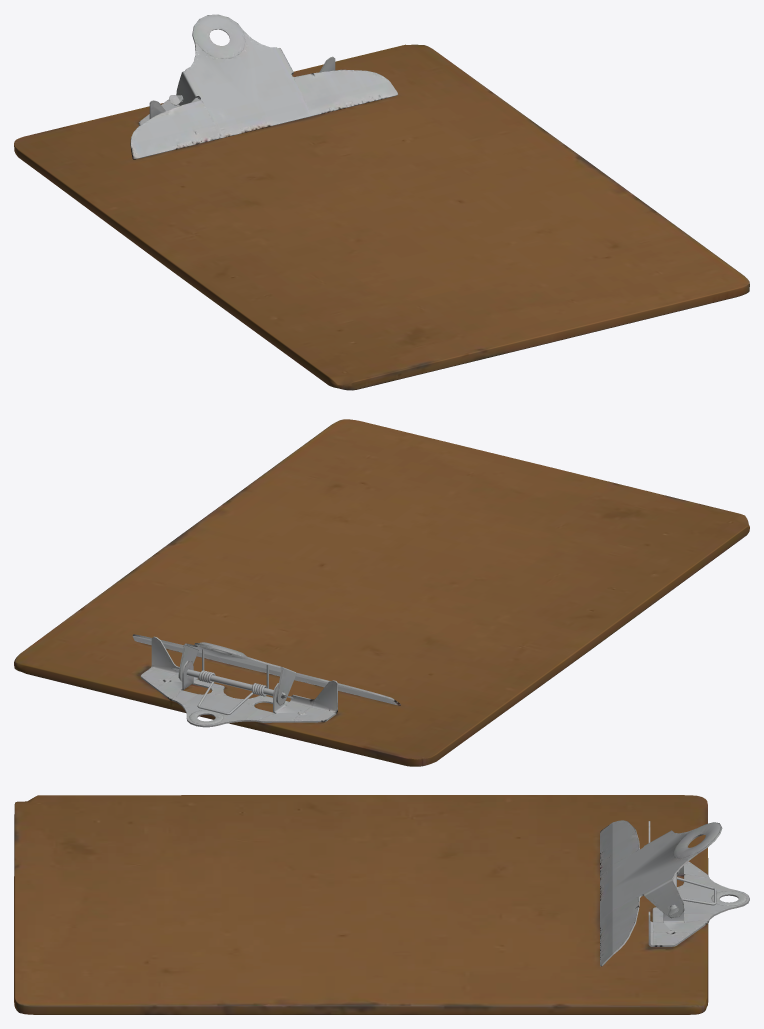
The model's file is clipboard.glb.
3 renders of one model, top to bottom at view 1: azimuth 30°, elevation 25°; view 2: azimuth 150°, elevation 25°; view 3: azimuth 270°, elevation 25°, orthographic. The views are drawn at different scales.
Visible parts, largest first — view 1: clipboard; view 2: clipboard; view 3: clipboard.
Part boxes in pixels (left/top/right/bottom): clipboard: left=14, top=14, right=749, bottom=390; clipboard: left=14, top=419, right=749, bottom=766; clipboard: left=14, top=795, right=749, bottom=1014.
Size of the model in its own units: 0.2286 by 0.042 by 0.3366.
Materials: 1 (1 with a texture image).
